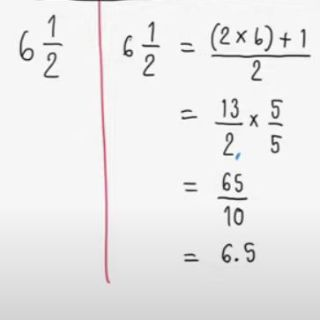.: (234, 256, 241, 264)
0: (233, 206, 245, 226)
1: (47, 14, 57, 37), (223, 205, 232, 229), (148, 20, 155, 44), (300, 27, 307, 50), (222, 97, 227, 118)
2: (42, 51, 61, 79), (142, 53, 156, 78), (222, 131, 235, 157), (218, 25, 233, 46), (250, 59, 264, 81)
3: (229, 97, 240, 119)
5: (270, 97, 284, 119), (243, 242, 257, 263), (270, 134, 283, 154), (234, 172, 244, 193)
6: (19, 29, 35, 62), (122, 34, 135, 57), (220, 242, 233, 263), (253, 26, 264, 47), (221, 172, 232, 191)
